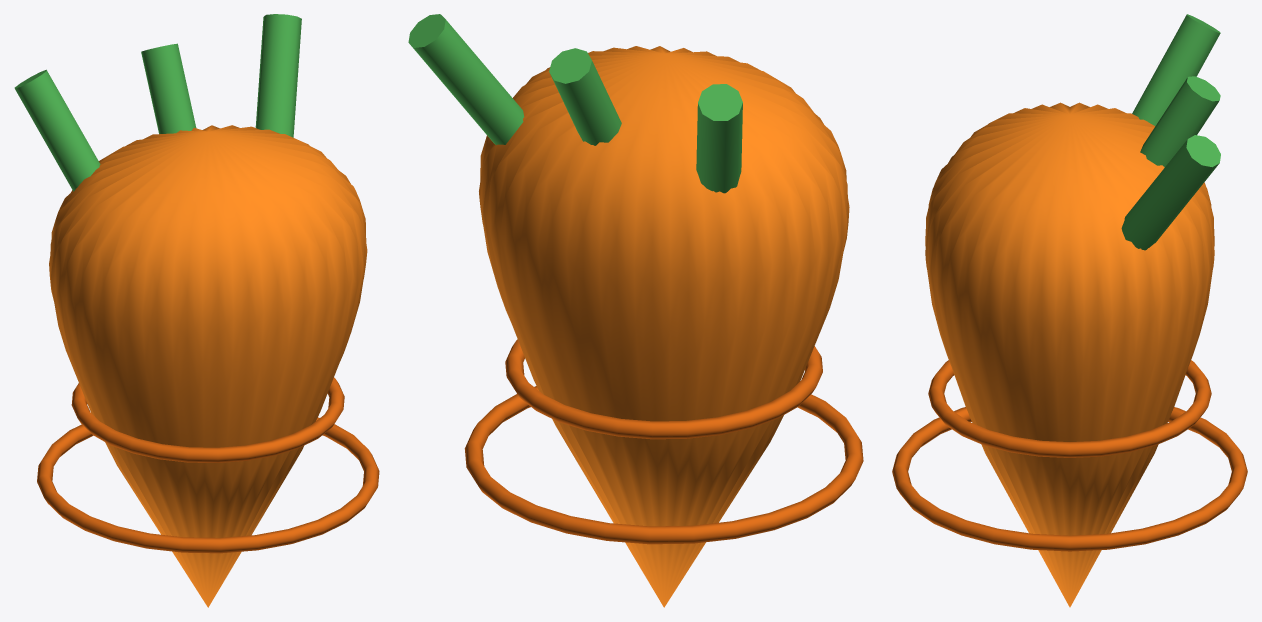
Rendered from tb_mat_gulrot.glb.
3 views of the same model, side by side, from view 1: azimuth 30°, elevation 25°; view 2: azimuth 150°, elevation 25°; view 3: azimuth 270°, elevation 25° (orthographic). The views are drawn at different scales.
Parts seen in each view (by area): view 1: matkropp; view 2: matkropp; view 3: matkropp.
Part boxes in pixels (x1,y1,x2,y2): matkropp: (14,14,379,607); matkropp: (408,14,863,607); matkropp: (892,14,1247,607).
Bounding box in the file's own units: 0.5426 × 0.8864 × 0.532.
